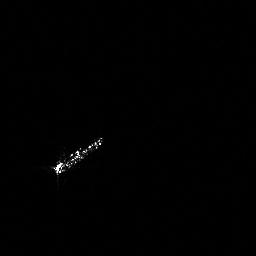ship: (49, 134, 106, 178)
